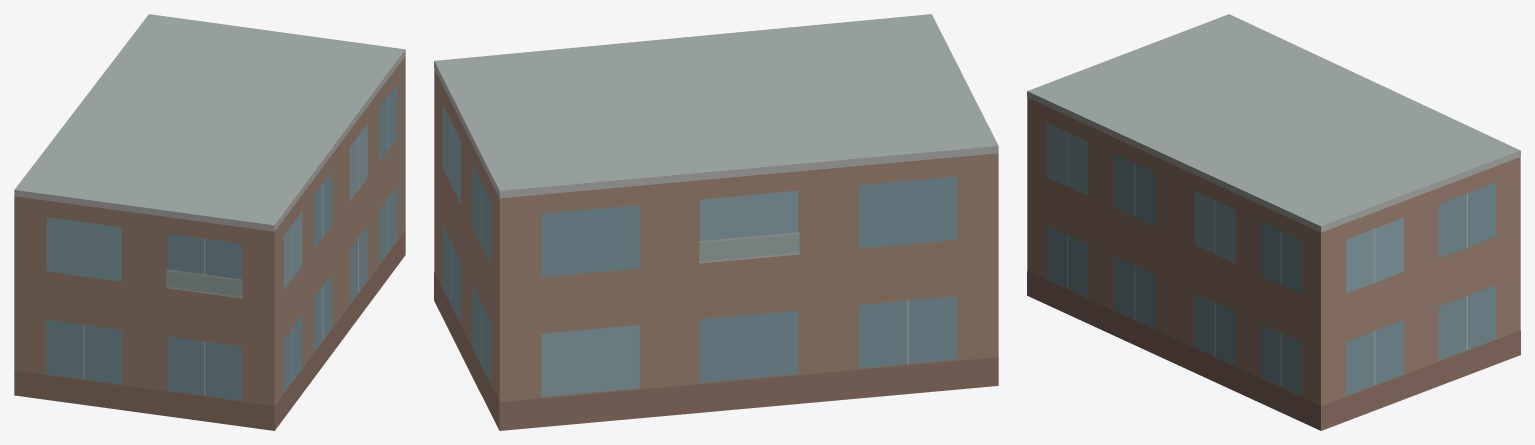
Rendered from survey-upis-32832716.glb.
3 renders of one model, left to right at view 1: azimuth 30°, elevation 25°; view 2: azimuth 150°, elevation 25°; view 3: azimuth 270°, elevation 25°, orthographic. The views are drawn at different scales.
Visible parts, largest first — view 1: survey-upis-32832716.tmp; view 2: survey-upis-32832716.tmp; view 3: survey-upis-32832716.tmp.
Part boxes in pixels (bbox=[...]): survey-upis-32832716.tmp: bbox=[14, 14, 405, 430]; survey-upis-32832716.tmp: bbox=[434, 14, 998, 430]; survey-upis-32832716.tmp: bbox=[1027, 14, 1520, 430].
Size of the model in its own units: 17.72 by 7.95 by 17.4.
